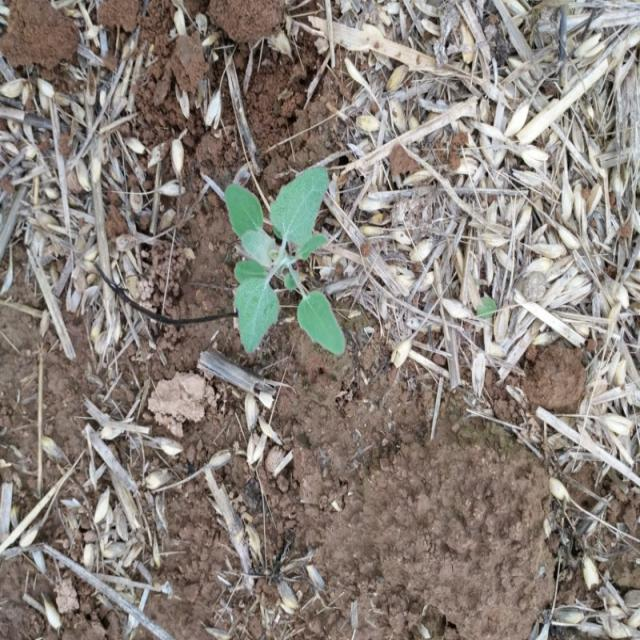goosefoots: (220, 170, 378, 360)
